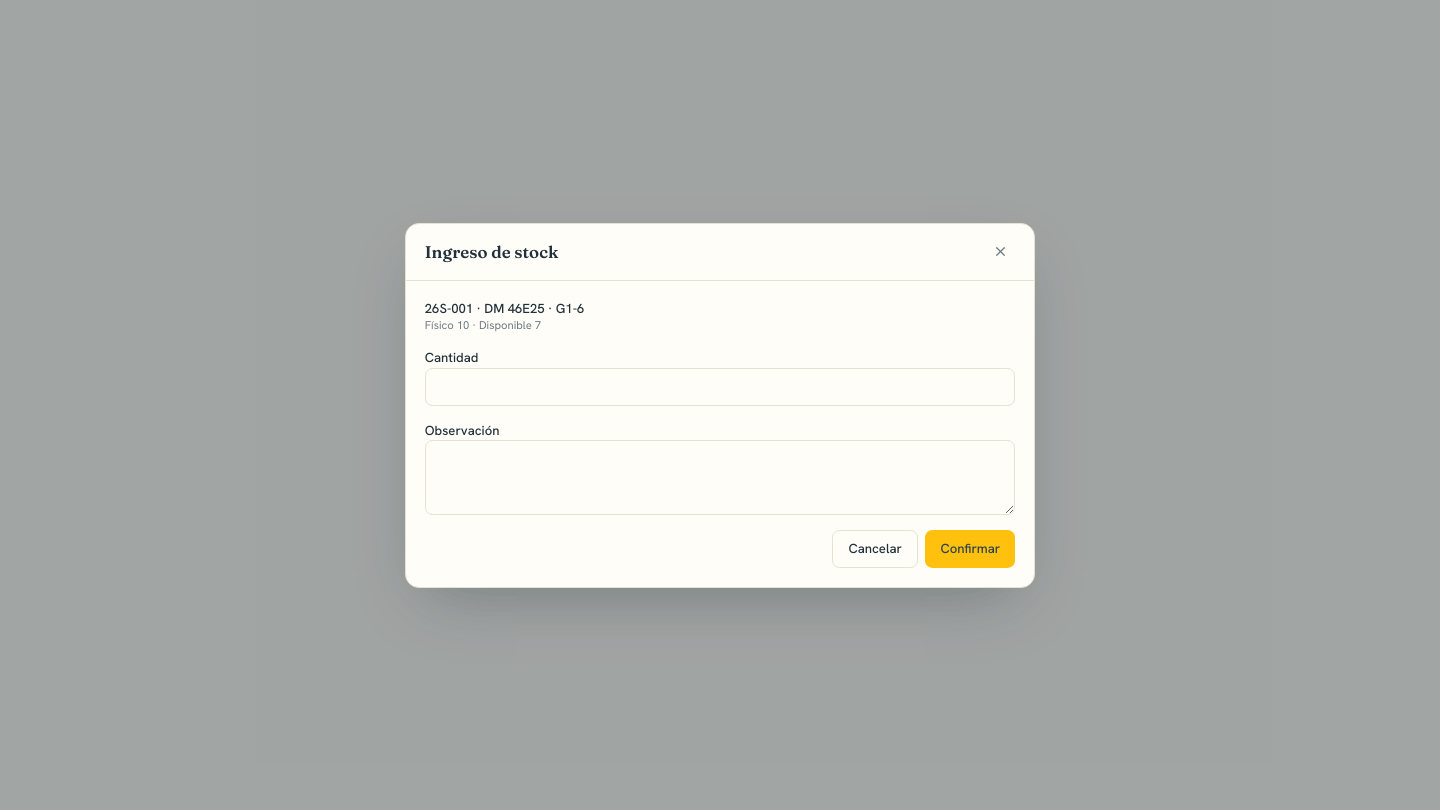
it: MovimientoDialog › el ingreso exige una cantidad mayor a 0
Click the button "Confirmar": click(970, 549) [926,530,1015,568]
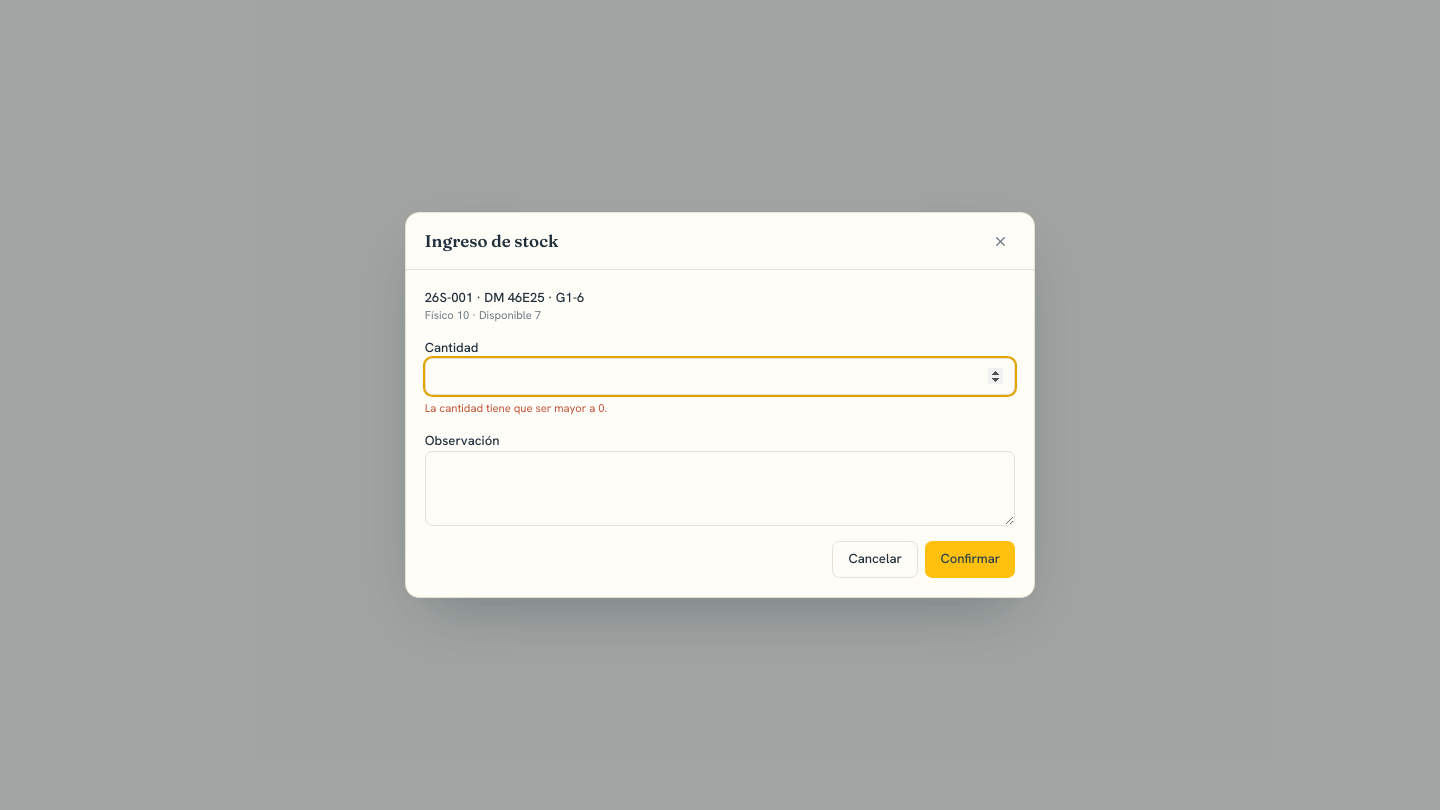
Now the text "La cantidad tiene que ser mayor a 0." is shown, box [425,401,607,415]
